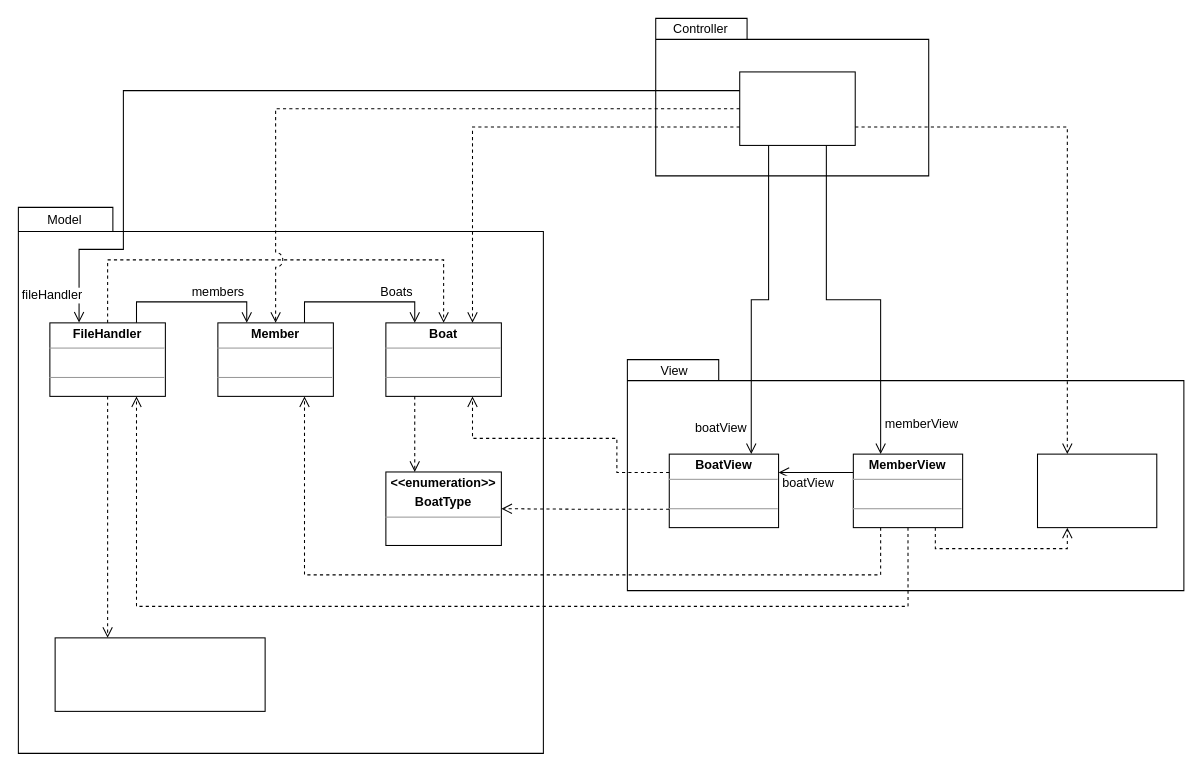
This 1202x772 diagram has some shape labels left out. Each missing label, with the box of its shape:
<<enumeration>> MenuChoice: (1036, 453, 1157, 528)
MemberNotFoundException: (54, 637, 265, 711)
Secretary: (739, 71, 855, 145)
